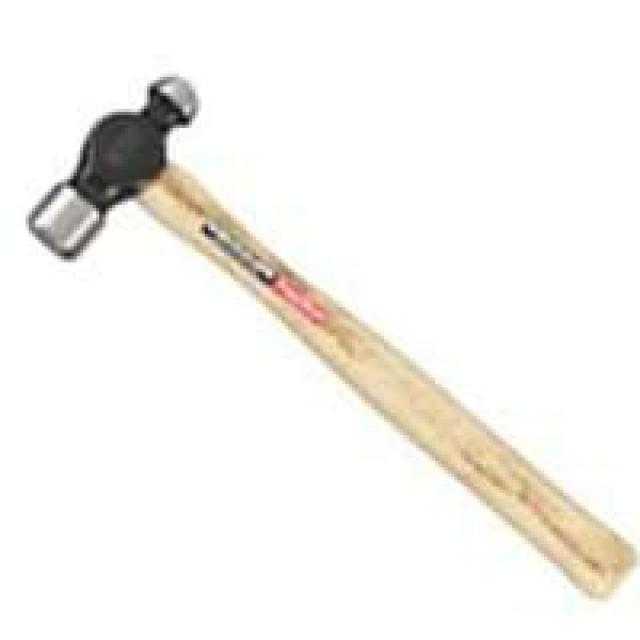hammer: (19, 66, 640, 609)
